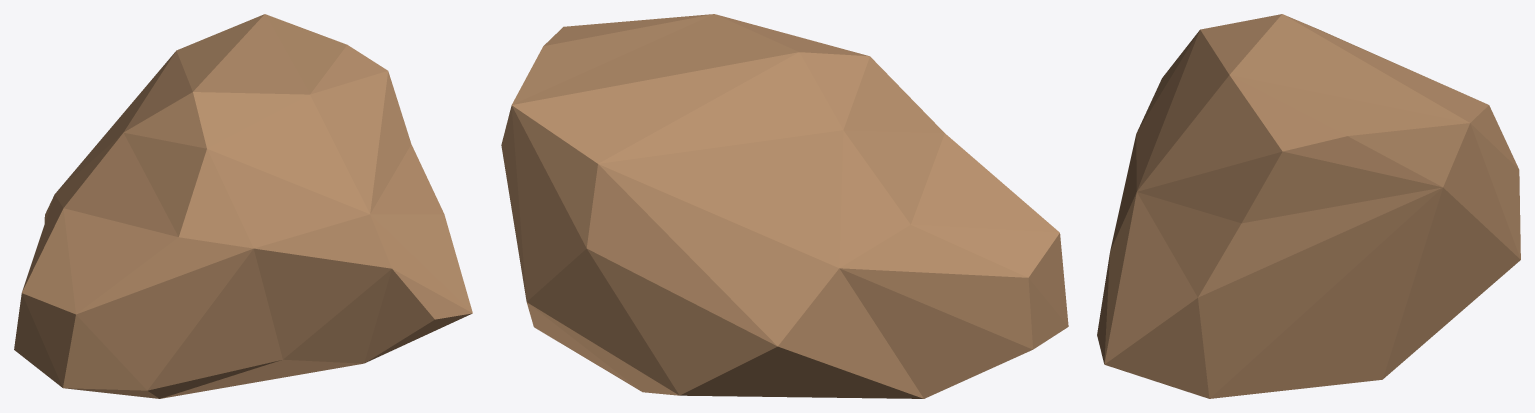
File: Puzzle_stone_2.glb
3 renders of one model, left to right at view 1: azimuth 30°, elevation 25°; view 2: azimuth 150°, elevation 25°; view 3: azimuth 270°, elevation 25°, orthographic. The views are drawn at different scales.
Visible parts, largest first — view 1: Puzzle_stone_02; view 2: Puzzle_stone_02; view 3: Puzzle_stone_02.
Part boxes in pixels (<box>): Puzzle_stone_02: <box>14,14,472,398</box>; Puzzle_stone_02: <box>501,14,1068,398</box>; Puzzle_stone_02: <box>1097,14,1520,398</box>.
Bounding box in the file's own units: 0.0763 × 0.0466 × 0.062.
